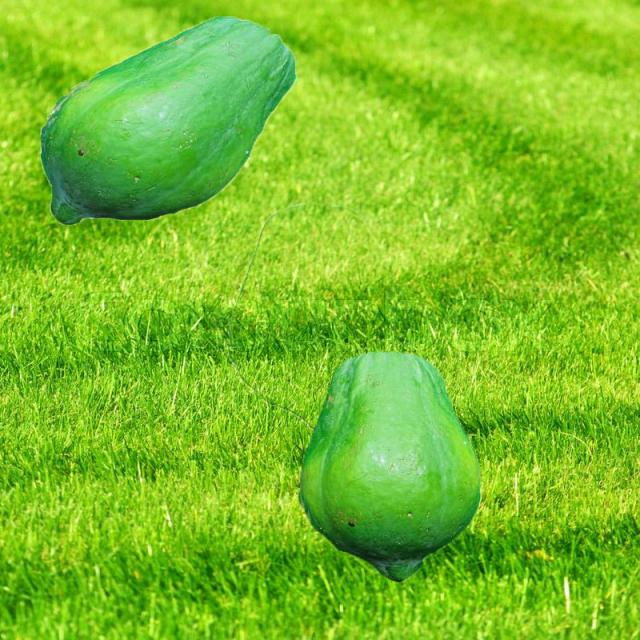Pepaya unrippen: (37, 13, 292, 236), (302, 353, 488, 586)
